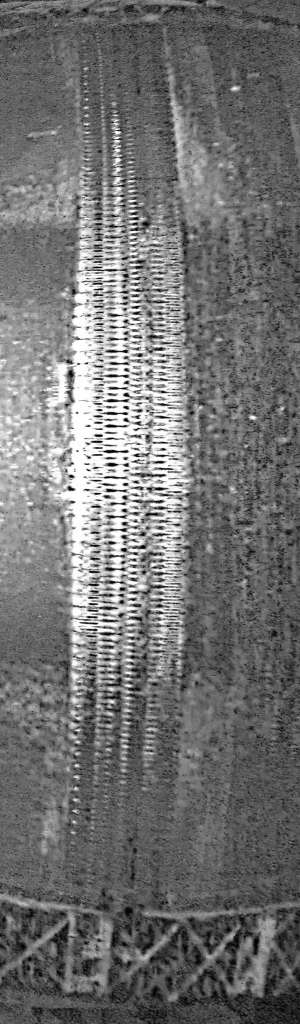splice: (56, 3, 192, 913)
